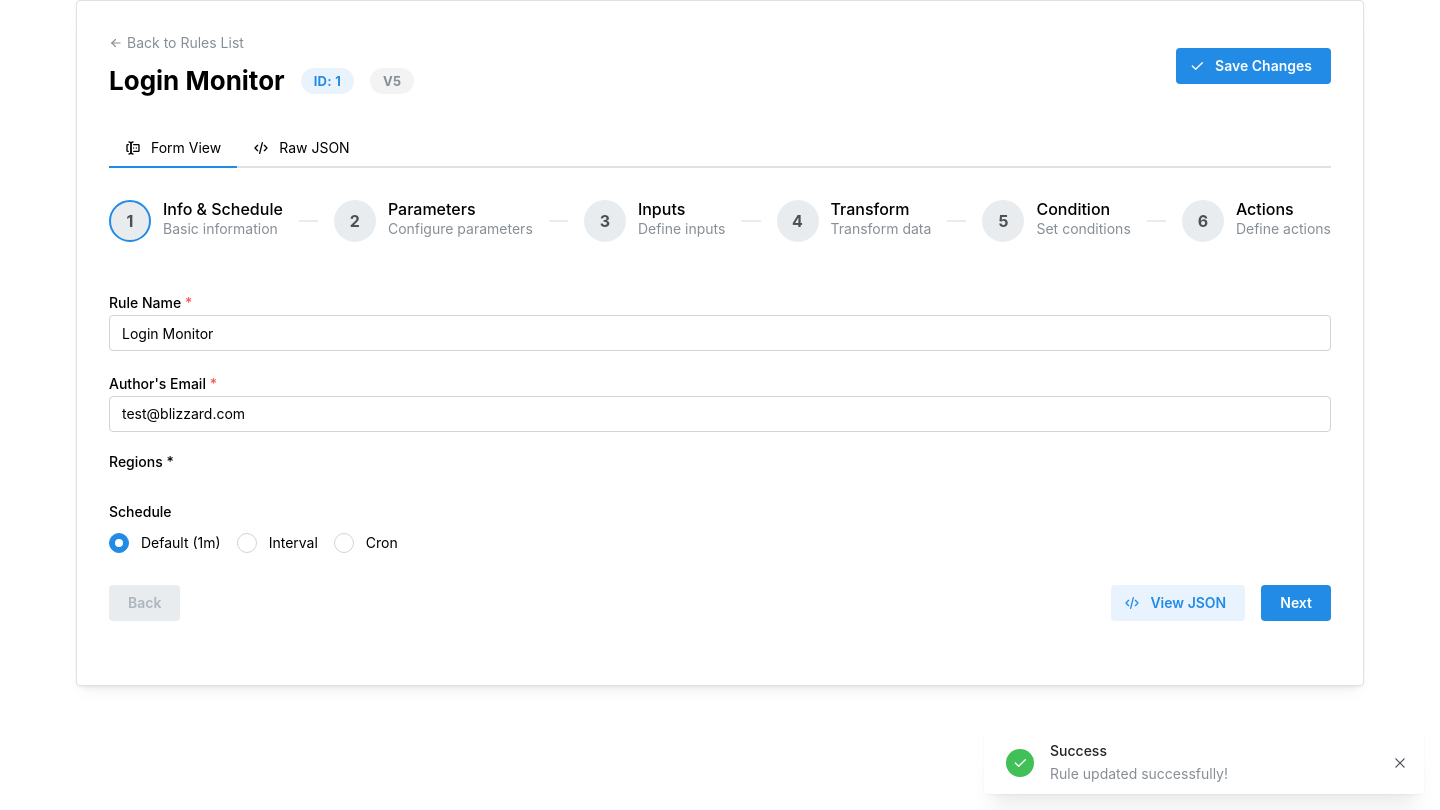
Test: RuleDetailPage › Save Functionality › failed save › shows error notification on save failure
Expected: the heading "Login Monitor" is shown, x1=109 y1=63 x2=285 y2=98
Click the button "Save Changes".
click(1254, 66)  # box x1=1176 y1=48 x2=1331 y2=84
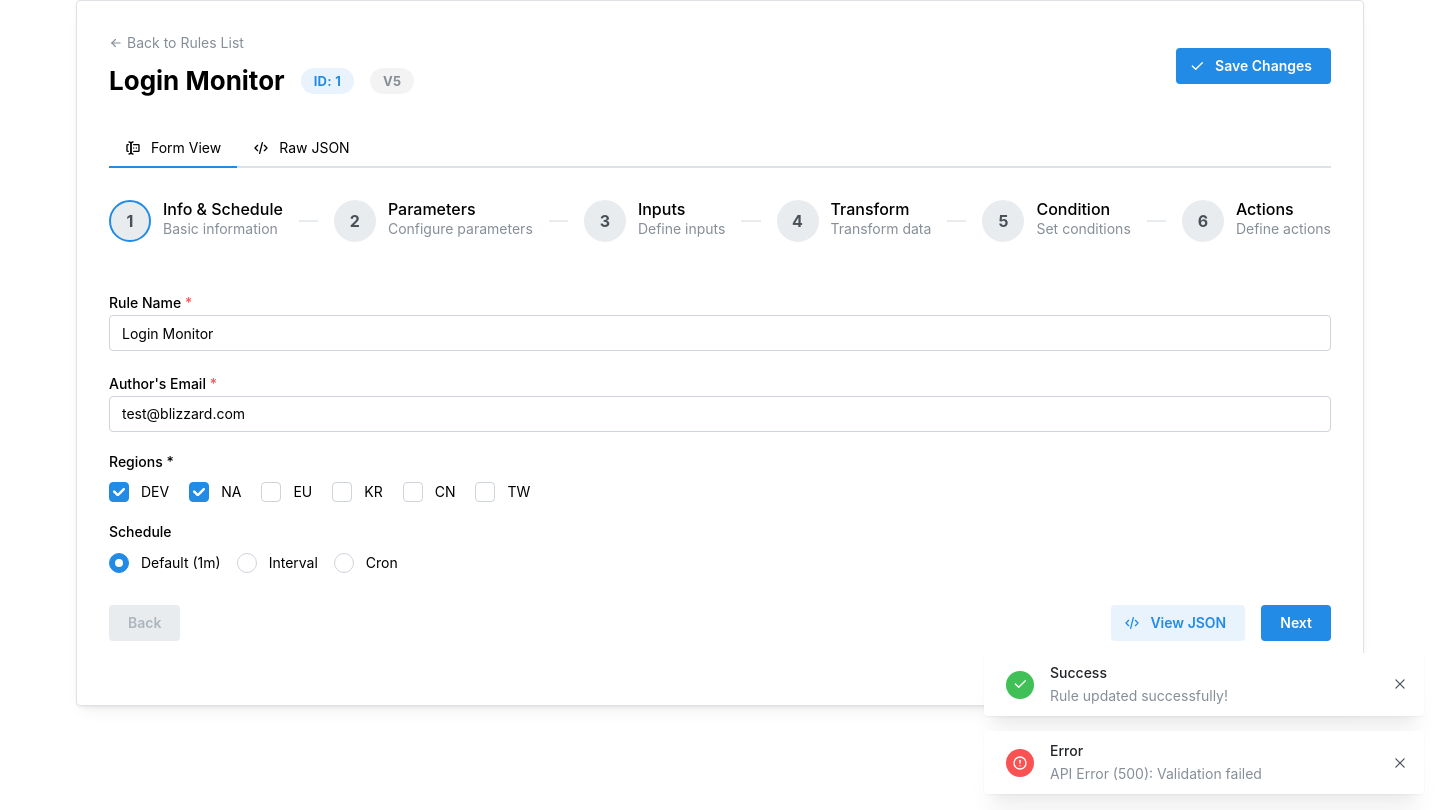
Expected: the text "Error" is shown, x1=1050 y1=742 x2=1083 y2=759
